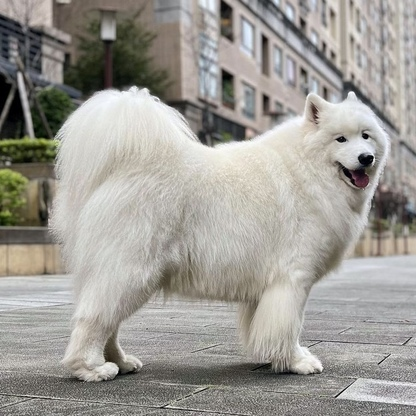samoyed: (43, 79, 396, 387)
